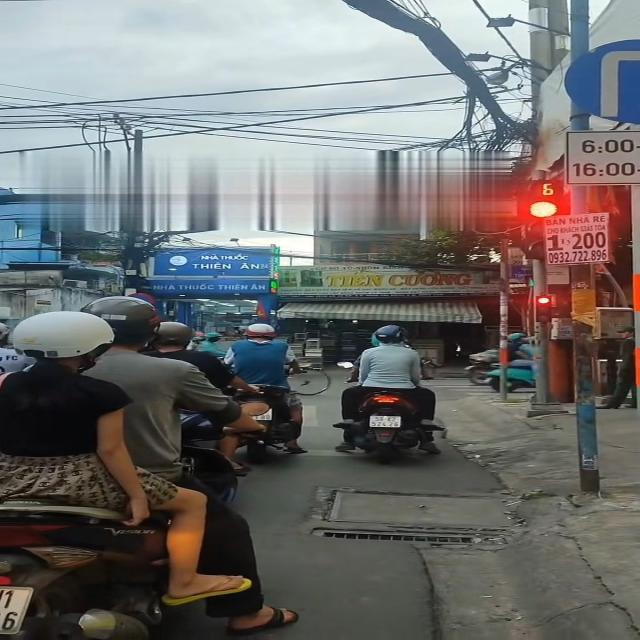301d-cac-xe-chi-duoc-re-phai-2: (569, 36, 640, 126)
